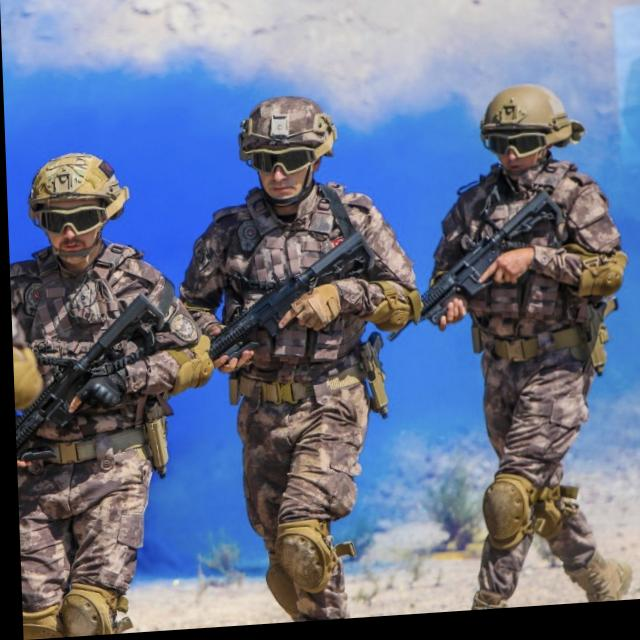poh_personel: (171, 93, 425, 631), (415, 86, 634, 618), (7, 147, 215, 640)
